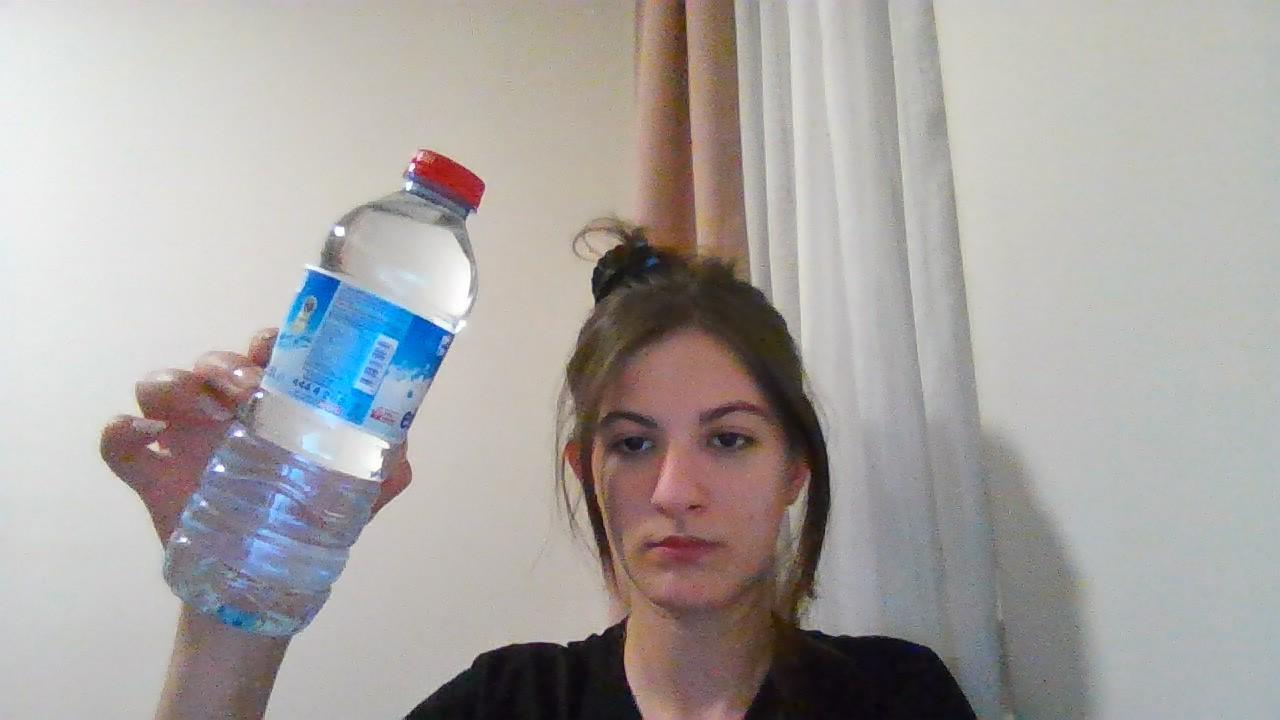bottle: (167, 145, 487, 636)
